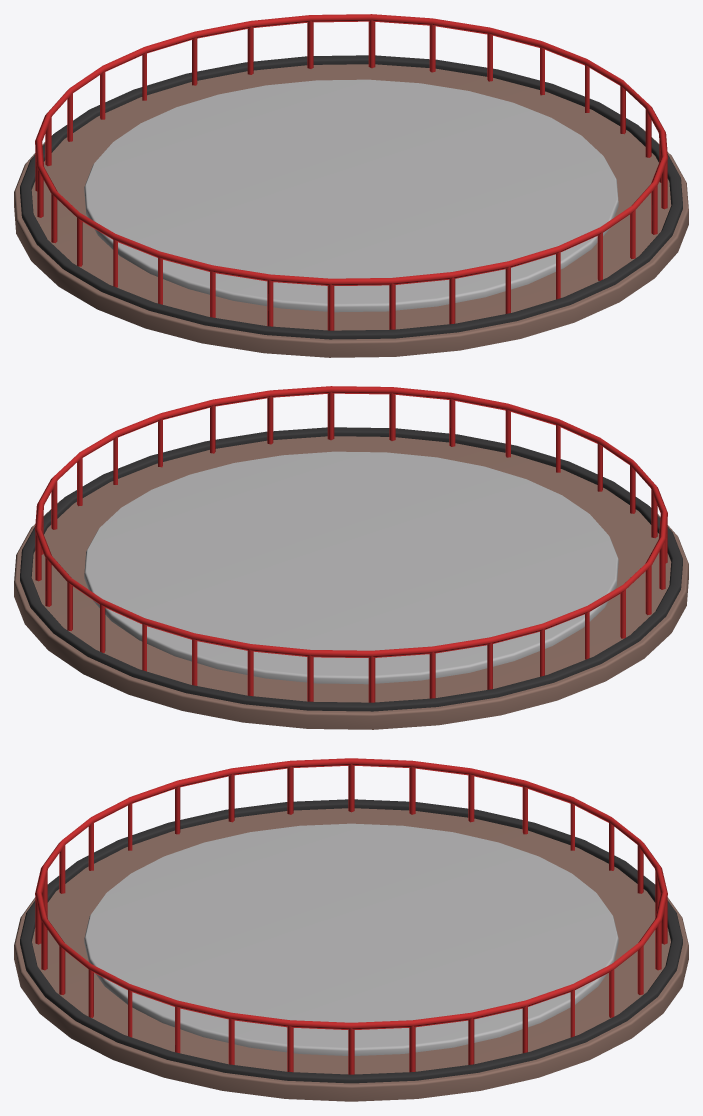
The model's file is attraction_5_001.gltf.
3 renders of one model, top to bottom at view 1: azimuth 30°, elevation 25°; view 2: azimuth 150°, elevation 25°; view 3: azimuth 270°, elevation 25°, orthographic.
Parts seen in each view (by area): view 1: attraction_5_001; view 2: attraction_5_001; view 3: attraction_5_001.
Boxes of the visible parts, x1,y1,x2,y2 form: attraction_5_001: (14,14,688,357); attraction_5_001: (14,386,688,729); attraction_5_001: (14,758,688,1101).
Bounding box in the file's own units: 12.04 × 1.35 × 12.04.
1 material, 1 textured.
